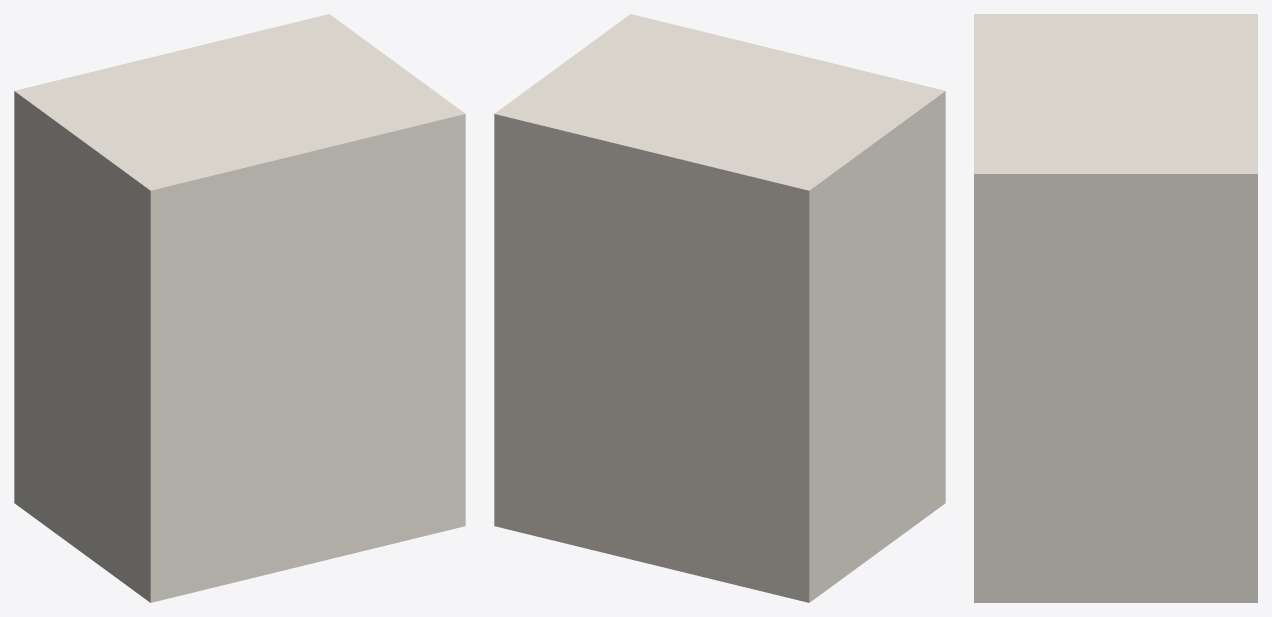
The model's file is eagle__tail.glb.
3 renders of one model, left to right at view 1: azimuth 30°, elevation 25°; view 2: azimuth 150°, elevation 25°; view 3: azimuth 270°, elevation 25°, orthographic. The views are drawn at different scales.
Parts seen in each view (by area): view 1: eagle__tail; view 2: eagle__tail; view 3: eagle__tail.
Boxes of the visible parts, box(x1,y1,x2,y2) form: eagle__tail: box(14, 14, 465, 602); eagle__tail: box(494, 14, 945, 602); eagle__tail: box(974, 14, 1257, 602).
Size of the model in its own units: 0.4 by 0.5 by 0.3.
Materials: 1 (1 with a texture image).
